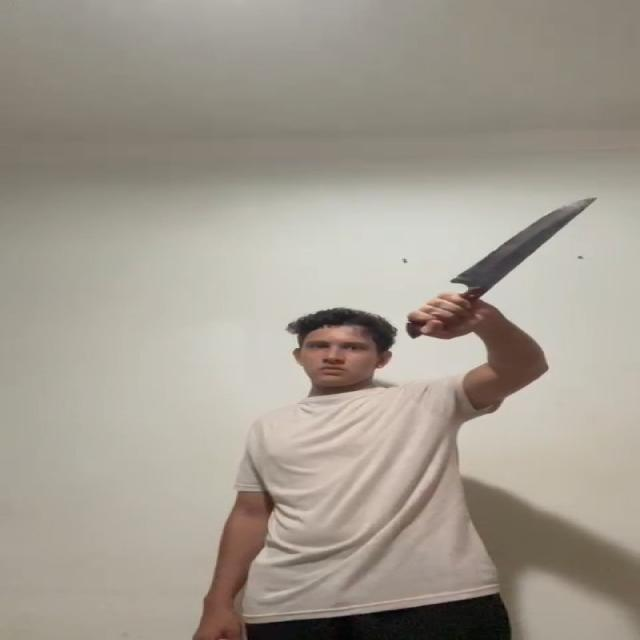knife: (452, 196, 598, 287)
